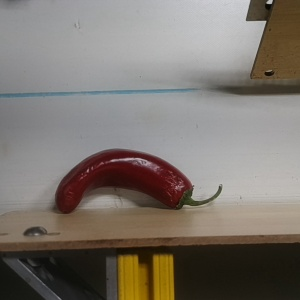Cut Point: (163, 175, 195, 209)
